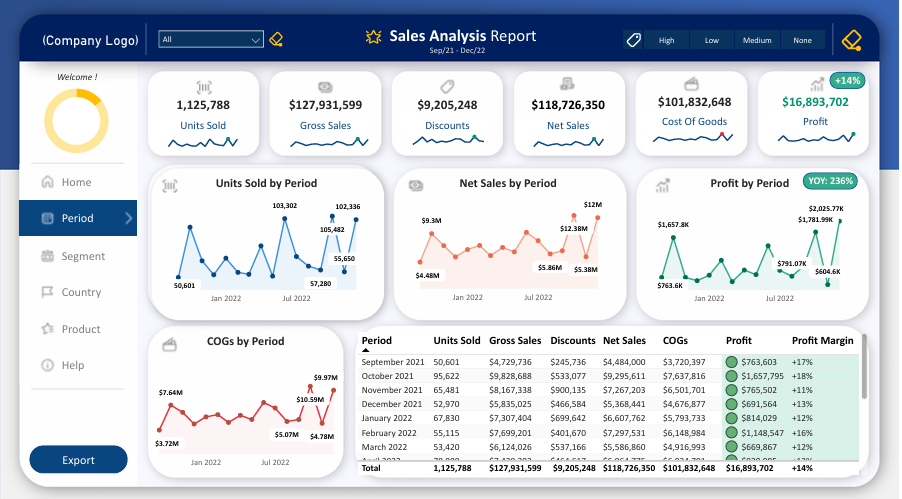

The dashboard page shown, as its layout file describes it:
{"tool":"powerbi","page":{"name":"Sales Analysis","canvas":[1280,720],"ordinal":1},"visuals":[{"type":"textbox","title":"Text box Title","box":[550,31.5,235,41],"z":0,"group":"g4"},{"type":"shape","title":"Shape _Profit_YOY","box":[1181,104,51,24],"z":0,"group":"g2"},{"type":"pivotTable","fields":{"Rows":["DIM_MANAGERS.Image URL"]},"box":[67.1,127,85,85],"z":0,"group":"g6"},{"type":"areaChart","title":"Units Sold by Period","fields":{"Category":["DIM_DATE.Reporting Period"],"Y":["Measure.M_Units Sold"]},"box":[227,249.9,305.2,190.8],"z":0,"group":"g1"},{"type":"actionButton","title":"Button_Period_active","box":[28,287.2,167.1,50],"z":0,"group":"g5"},{"type":"actionButton","title":"Button_Export","box":[42,635,140,40],"z":0,"group":"g3"},{"type":"cardVisual","title":"Card_Profit_YOY","fields":{"Data":["Measure.M_Profit Margin Formatted"]},"box":[1172,96,72.8,31.1],"z":500,"group":"g2"},{"type":"textbox","title":"Text box Logo","box":[50,41.2,157.5,37.5],"z":1000,"group":"g4"},{"type":"shape","box":[65.7,132.7,85.7,85.7],"z":1000,"group":"g6"},{"type":"areaChart","title":"Net Sales by Period","fields":{"Category":["DIM_DATE.Reporting Period"],"Y":["Measure.M_Net Sales"]},"box":[571.1,249.9,305,190],"z":1000,"group":"g1"},{"type":"actionButton","title":"Button arrow","box":[165.1,287.2,30,50],"z":1000,"group":"g5"},{"type":"shape","title":"Shape_Bottom_Nav_divider","box":[45,539,132,32],"z":1000,"group":"g3"},{"type":"pivotTable","title":"Spark_Profit","fields":{"Values":["SparklineData(Measure.M_Profit_[DIM_DATE.YearMonth])"]},"box":[1078.9,157.8,164.4,64.4],"z":1250,"group":"g2"},{"type":"slicer","title":"Slicer_Discount_Band","fields":{"Values":["FACT_SALES.Discount Band"]},"box":[892,38,306,41],"z":1500,"group":"g4"},{"type":"slicer","title":"Slicer Managers","fields":{"Values":["DIM_MANAGERS.Manager Name"]},"box":[216,35,170,45],"z":2000,"group":"g4"},{"type":"donutChart","title":"Donut Chart Profit Margin and Profit Margin Difference","fields":{"Y":["Measure.M_Profit Margin","Measure.M_100% Minus Profit Margin"]},"box":[47.1,111.3,124.3,124.3],"z":2000,"group":"g6"},{"type":"pivotTable","title":"Spark_COG","fields":{"Values":["SparklineData(Measure.M_Cost Of Goods_[DIM_DATE.YearMonth])"]},"box":[901,157.8,164.5,64.5],"z":2000,"group":"g2"},{"type":"shape","title":"Shape_Top_Nav_divider","box":[45,218,132,32],"z":2000,"group":"g3"},{"type":"areaChart","title":"Profit by Period","fields":{"Category":["DIM_DATE.Reporting Period"],"Y":["Measure.M_Profit"]},"box":[915,249.9,305,191.2],"z":2000,"group":"g1"},{"type":"actionButton","title":"Button Clear Managers","box":[375,44,36,25],"z":3000,"group":"g4"},{"type":"shape","title":"Shape Hide Scrol","box":[139.2,117,20,20],"z":3000,"group":"g6"},{"type":"pivotTable","title":"Spark_Net_Sales","fields":{"Values":["SparklineData(Measure.M_Net Sales_[DIM_DATE.YearMonth])"]},"box":[730.9,160.9,157.3,64.5],"z":3000,"group":"g2"},{"type":"areaChart","title":"COGs by Period","fields":{"Category":["DIM_DATE.Reporting Period"],"Y":["Measure.M_Cost Of Goods"]},"box":[200,475,300,200],"z":3000,"group":"g1"},{"type":"pivotTable","title":"Spark_Dscounts","fields":{"Values":["SparklineData(Measure.M_Discounts_[DIM_DATE.YearMonth])"]},"box":[559.1,158.2,157.3,64.5],"z":3500,"group":"g2"},{"type":"actionButton","title":"Button Title Icon","box":[500,33.5,63,40],"z":4000,"group":"g4"},{"type":"cardVisual","title":"Card Welcome","fields":{"Data":["Measure.M_User Greeting"]},"box":[33.3,87.8,154.4,36.7],"z":4000,"group":"g6"},{"type":"pivotTable","title":"Spark_Gross_Sales","fields":{"Values":["SparklineData(Measure.M_Gross Sales_[DIM_DATE.YearMonth])"]},"box":[385,161.2,157,64.2],"z":4000,"group":"g2"},{"type":"group","id":"g1","title":"Period","box":[200,240,1040,441.7],"z":4000},{"type":"tableEx","title":"Table_Period","fields":{"Values":["DIM_DATE.Reporting Period","Measure.M_Units Sold","Measure.M_Gross Sales","Measure.M_Discounts","Measure.M_Net Sales","Measure.M_Cost Of Goods","Measure.M_Profit","Measure.M_Profit Margin Formatted"]},"box":[504.2,470,735.8,211.7],"z":4000,"group":"g1"},{"type":"actionButton","title":"Button_Help","box":[28,496,167.1,50],"z":4000,"group":"g3"},{"type":"cardVisual","title":"Card Date Range","fields":{"Data":["Measure.M_Date Selection"]},"box":[590,50,123,38],"z":5000,"group":"g4"},{"type":"group","id":"g2","title":"Static","box":[211.2,96,1033.6,410.7],"z":5000},{"type":"pivotTable","title":"Spark_Unit_Sold","fields":{"Values":["SparklineData(Measure.M_Units Sold_[DIM_DATE.YearMonth])"]},"box":[211.2,161.2,157,64.2],"z":5000,"group":"g2"},{"type":"shape","title":"Shape _Profit_YOY","box":[1142.9,247.1,78.6,24.3],"z":5000,"group":"g1"},{"type":"actionButton","title":"Button Discount icon","box":[888,45,27,27],"z":6000,"group":"g4"},{"type":"group","id":"g3","title":"Navigation","box":[28,87.8,168,587.2],"z":6000},{"type":"cardVisual","title":"Card_Profit_YOY","fields":{"Data":["Measure.M_Profit YOY% Formatted"]},"box":[1134,240,98,30],"z":6000,"group":"g1"},{"type":"actionButton","title":"Button_Product","box":[28,443.8,167.1,50],"z":6000,"group":"g3"},{"type":"group","id":"g4","title":"Header","box":[50,31.5,1182,56.5],"z":7000},{"type":"cardVisual","title":"Card_Profit","fields":{"Data":["Measure.M_Profit"]},"box":[1089.4,114.2,143.3,89.2],"z":7000,"group":"g2"},{"type":"actionButton","title":"Button Clear Discount","box":[1193,41,39,35],"z":8000,"group":"g4"},{"type":"cardVisual","title":"Card_COG","fields":{"Data":["Measure.M_Cost Of Goods"]},"box":[916.9,114.2,144.2,89.2],"z":8000,"group":"g2"},{"type":"actionButton","title":"Button_Country","box":[28,391.6,167.1,50],"z":8000,"group":"g3"},{"type":"cardVisual","title":"Card_Net_Sales","fields":{"Data":["Measure.M_Net Sales"]},"box":[737.5,119.2,144.2,88.3],"z":8500,"group":"g2"},{"type":"shape","title":"Divider Line Left","box":[192,35,32,45],"z":9000,"group":"g4"},{"type":"cardVisual","title":"Card_Discount","fields":{"Data":["Measure.M_Discounts"]},"box":[565.6,119,143.3,89.2],"z":9000,"group":"g2"},{"type":"shape","title":"Divider Line Right","box":[1170,35,31.2,45],"z":10000,"group":"g4"},{"type":"cardVisual","title":"Card_Gross_Sales","fields":{"Data":["Measure.M_Gross Sales"]},"box":[391.8,119,143.3,89],"z":10000,"group":"g2"},{"type":"actionButton","title":"Button_Segment","box":[28,339.4,167.1,50],"z":10000,"group":"g3"},{"type":"cardVisual","title":"Card_Unit_Sold","fields":{"Data":["Measure.M_Units Sold"]},"box":[218,119,143.3,89.2],"z":11000,"group":"g2"},{"type":"group","id":"g5","title":"Button_Period_active","box":[28,287.2,167.1,50],"z":11000,"group":"g3"},{"type":"actionButton","title":"Button_Profit","box":[1148.3,106,32.7,30.9],"z":13000,"group":"g2"},{"type":"actionButton","title":"Button_Home","box":[28,235,168,50],"z":13000,"group":"g3"},{"type":"group","id":"g6","title":"Group_Mgr Image","box":[33.3,87.8,154.4,147.8],"z":13500,"group":"g3"},{"type":"actionButton","title":"Button_COG","box":[969.2,105.5,32.7,30.9],"z":14000,"group":"g2"},{"type":"actionButton","title":"Button_Net_Sales","box":[793.6,103.6,32.7,30.9],"z":14500,"group":"g2"},{"type":"actionButton","title":"Button_Discount","box":[621.6,110,32.6,31.2],"z":15000,"group":"g2"},{"type":"actionButton","title":"Button_Gross_Sales","box":[448,110,32.6,31.2],"z":16000,"group":"g2"},{"type":"actionButton","title":"Button_Unit_Sold","box":[275,110,32,32],"z":17000,"group":"g2"},{"type":"actionButton","title":"Button_COG","box":[226.7,475.6,32.2,31.1],"z":18000,"group":"g2"},{"type":"actionButton","title":"Button_Profit","box":[927.8,250,32.2,31.1],"z":19000,"group":"g2"},{"type":"actionButton","title":"Button_Gross_Sales","box":[577.2,250,32.2,31.1],"z":20000,"group":"g2"},{"type":"actionButton","title":"Button_Unit_Sold","box":[226.7,250,32.2,32.2],"z":21000,"group":"g2"}]}

Visuals, with their boxes in screenshot pixels (x1, y1, x2, y2), scaled from the page's 1280x720 canvas onto the 902x499 screenshot:
"Text box Title" textbox: select_region(388, 22, 553, 50)
"Shape _Profit_YOY" shape: select_region(832, 72, 868, 89)
pivotTable - DIM_MANAGERS.Image URL: select_region(47, 88, 107, 147)
"Units Sold by Period" areaChart: select_region(160, 173, 375, 305)
"Button_Period_active" actionButton: select_region(20, 199, 137, 234)
"Button_Export" actionButton: select_region(30, 440, 128, 468)
"Card_Profit_YOY" cardVisual: select_region(826, 67, 877, 88)
"Text box Logo" textbox: select_region(35, 29, 146, 55)
shape: select_region(46, 92, 107, 151)
"Net Sales by Period" areaChart: select_region(402, 173, 617, 305)
"Button arrow" actionButton: select_region(116, 199, 137, 234)
"Shape_Bottom_Nav_divider" shape: select_region(32, 374, 125, 396)
"Spark_Profit" pivotTable: select_region(760, 109, 876, 154)
"Slicer_Discount_Band" slicer: select_region(629, 26, 844, 55)
"Slicer Managers" slicer: select_region(152, 24, 272, 55)
"Donut Chart Profit Margin and Profit Margin Difference" donutChart: select_region(33, 77, 121, 163)
"Spark_COG" pivotTable: select_region(635, 109, 751, 154)
"Shape_Top_Nav_divider" shape: select_region(32, 151, 125, 173)
"Profit by Period" areaChart: select_region(645, 173, 860, 306)
"Button Clear Managers" actionButton: select_region(264, 30, 290, 48)
"Shape Hide Scrol" shape: select_region(98, 81, 112, 95)
"Spark_Net_Sales" pivotTable: select_region(515, 112, 626, 156)
"COGs by Period" areaChart: select_region(141, 329, 352, 468)
"Spark_Dscounts" pivotTable: select_region(394, 110, 505, 154)
"Button Title Icon" actionButton: select_region(352, 23, 397, 51)
"Card Welcome" cardVisual: select_region(23, 61, 132, 86)
"Spark_Gross_Sales" pivotTable: select_region(271, 112, 382, 156)
"Period" group: select_region(141, 166, 874, 472)
"Table_Period" tableEx: select_region(355, 326, 874, 472)
"Button_Help" actionButton: select_region(20, 344, 137, 378)
"Card Date Range" cardVisual: select_region(416, 35, 502, 61)
"Static" group: select_region(149, 67, 877, 351)
"Spark_Unit_Sold" pivotTable: select_region(149, 112, 259, 156)
"Shape _Profit_YOY" shape: select_region(805, 171, 861, 188)
"Button Discount icon" actionButton: select_region(626, 31, 645, 50)
"Navigation" group: select_region(20, 61, 138, 468)
"Card_Profit_YOY" cardVisual: select_region(799, 166, 868, 187)
"Button_Product" actionButton: select_region(20, 308, 137, 342)
"Header" group: select_region(35, 22, 868, 61)
"Card_Profit" cardVisual: select_region(768, 79, 869, 141)
"Button Clear Discount" actionButton: select_region(841, 28, 868, 53)
"Card_COG" cardVisual: select_region(646, 79, 748, 141)
"Button_Country" actionButton: select_region(20, 271, 137, 306)
"Card_Net_Sales" cardVisual: select_region(520, 83, 621, 144)
"Divider Line Left" shape: select_region(135, 24, 158, 55)
"Card_Discount" cardVisual: select_region(399, 82, 500, 144)
"Divider Line Right" shape: select_region(824, 24, 846, 55)
"Card_Gross_Sales" cardVisual: select_region(276, 82, 377, 144)
"Button_Segment" actionButton: select_region(20, 235, 137, 270)
"Card_Unit_Sold" cardVisual: select_region(154, 82, 255, 144)
"Button_Period_active" group: select_region(20, 199, 137, 234)
"Button_Profit" actionButton: select_region(809, 73, 832, 95)
"Button_Home" actionButton: select_region(20, 163, 138, 198)
"Group_Mgr Image" group: select_region(23, 61, 132, 163)
"Button_COG" actionButton: select_region(683, 73, 706, 95)
"Button_Net_Sales" actionButton: select_region(559, 72, 582, 93)
"Button_Discount" actionButton: select_region(438, 76, 461, 98)
"Button_Gross_Sales" actionButton: select_region(316, 76, 339, 98)
"Button_Unit_Sold" actionButton: select_region(194, 76, 216, 98)
"Button_COG" actionButton: select_region(160, 330, 182, 351)
"Button_Profit" actionButton: select_region(654, 173, 676, 195)
"Button_Gross_Sales" actionButton: select_region(407, 173, 429, 195)
"Button_Unit_Sold" actionButton: select_region(160, 173, 182, 196)
